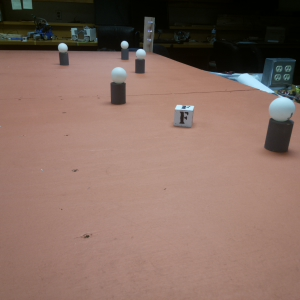obstacle: (265, 94, 294, 155), (109, 67, 128, 106), (57, 43, 70, 68), (135, 48, 147, 75), (121, 39, 130, 60)
